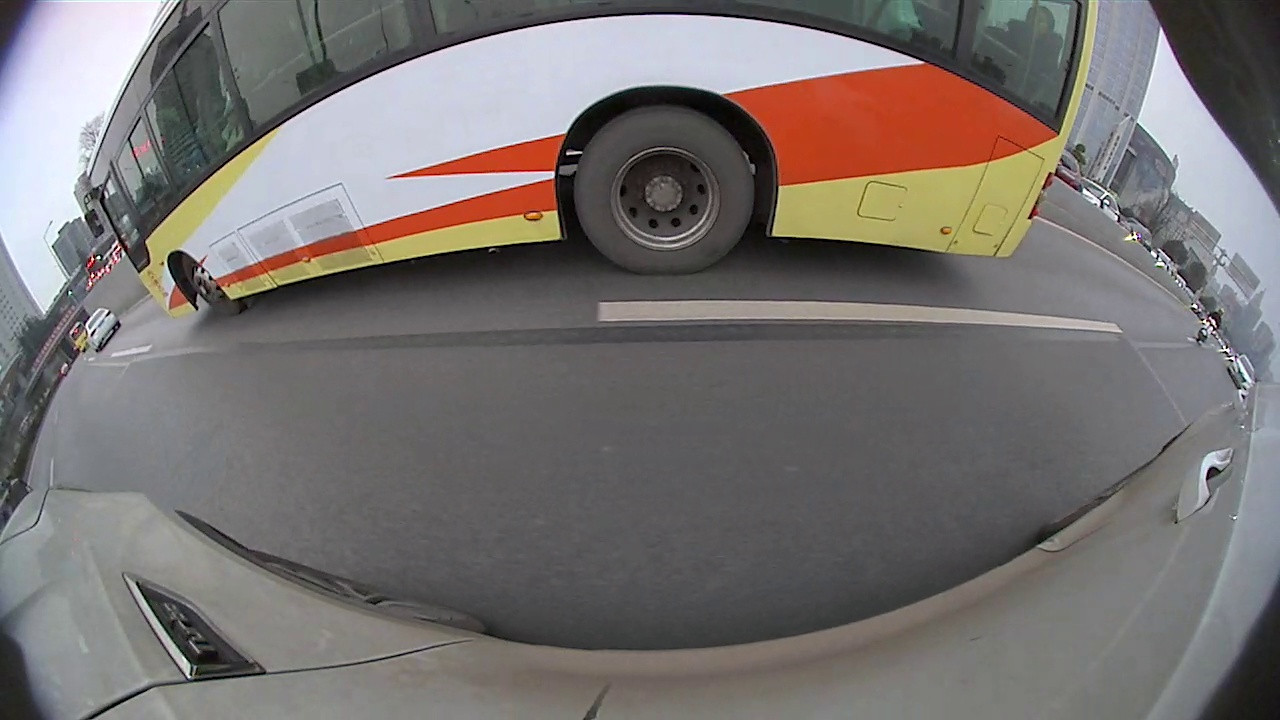bus: (82, 3, 1094, 322)
car: (0, 474, 35, 532), (82, 306, 118, 352)
front: (177, 250, 251, 320)
rear: (572, 100, 758, 277)
rider: (1193, 307, 1228, 345)
